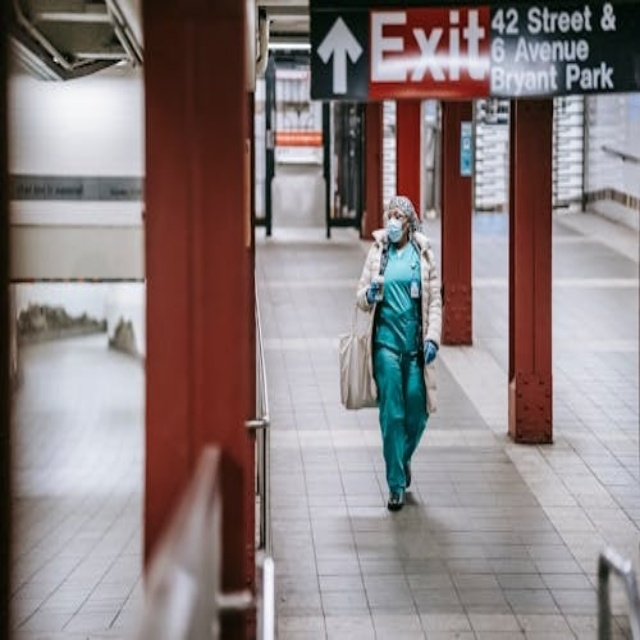Guantes: (424, 340, 438, 365), (366, 285, 381, 304)
Mascara: (386, 219, 406, 244)
